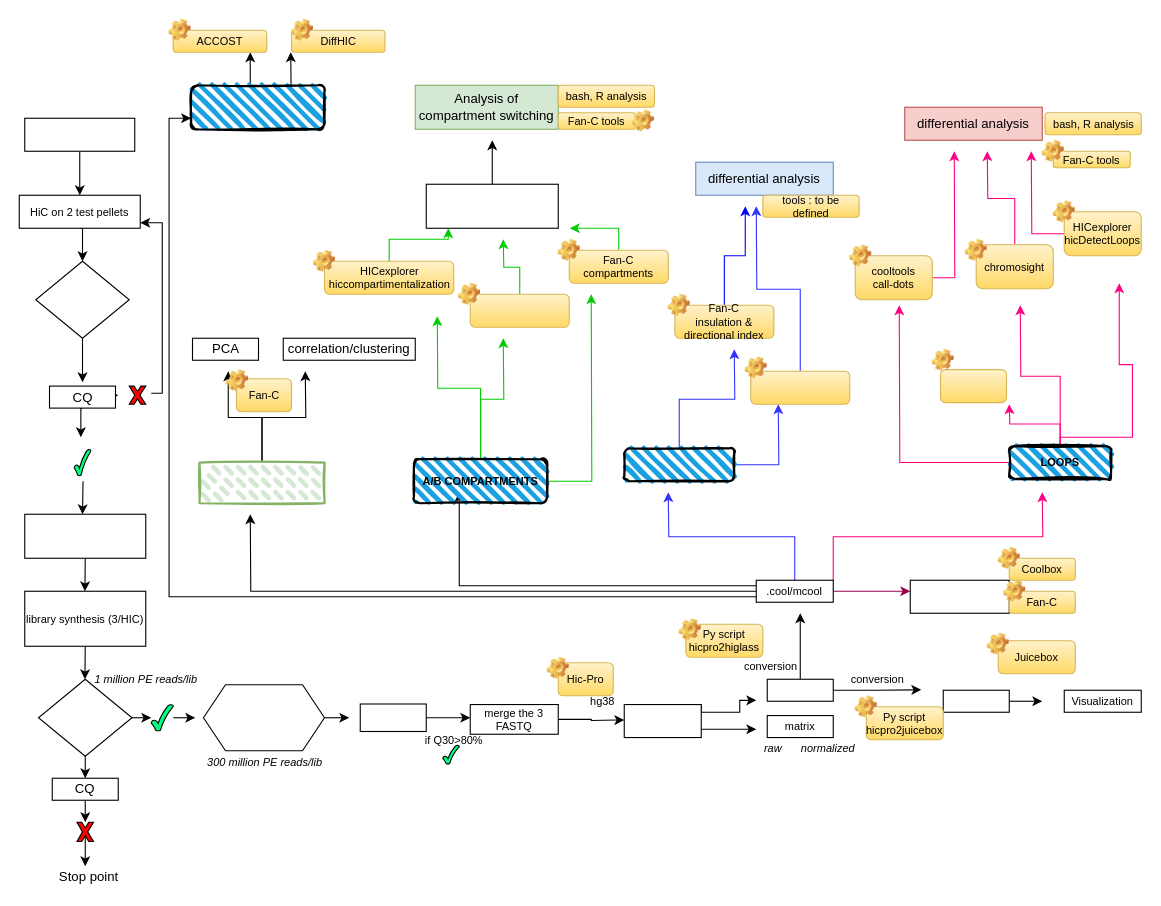
Image size: 1161x906. Some labels were removed from this diagram. The centre of each missing label's shape, as x and y in pixels:
.hic: the point at 975,700
alignment: the point at 662,720
Cell pellet (0.5-2 millions cells): the point at 79,134
CONTACT MATRICES COMPARISIONS: the point at 257,107
cooltools call compartments: the point at 519,310
cooltools insulation: the point at 800,387
eigen values from thecorrelation matrix: the point at 491,205
FASTQ: the point at 392,717
FitHIC: the point at 973,386
HIC experiments on all samples: the point at 85,535
High read depth sequencing on NovaSeq: the point at 263,717
MiSeq sequencing: the point at 82,299
non supervised classification: the point at 261,482
sequençage MiSeq: the point at 84,717
TADs: the point at 679,464
ValidPairs: the point at 799,689
Visualization with others omics data: the point at 959,596
